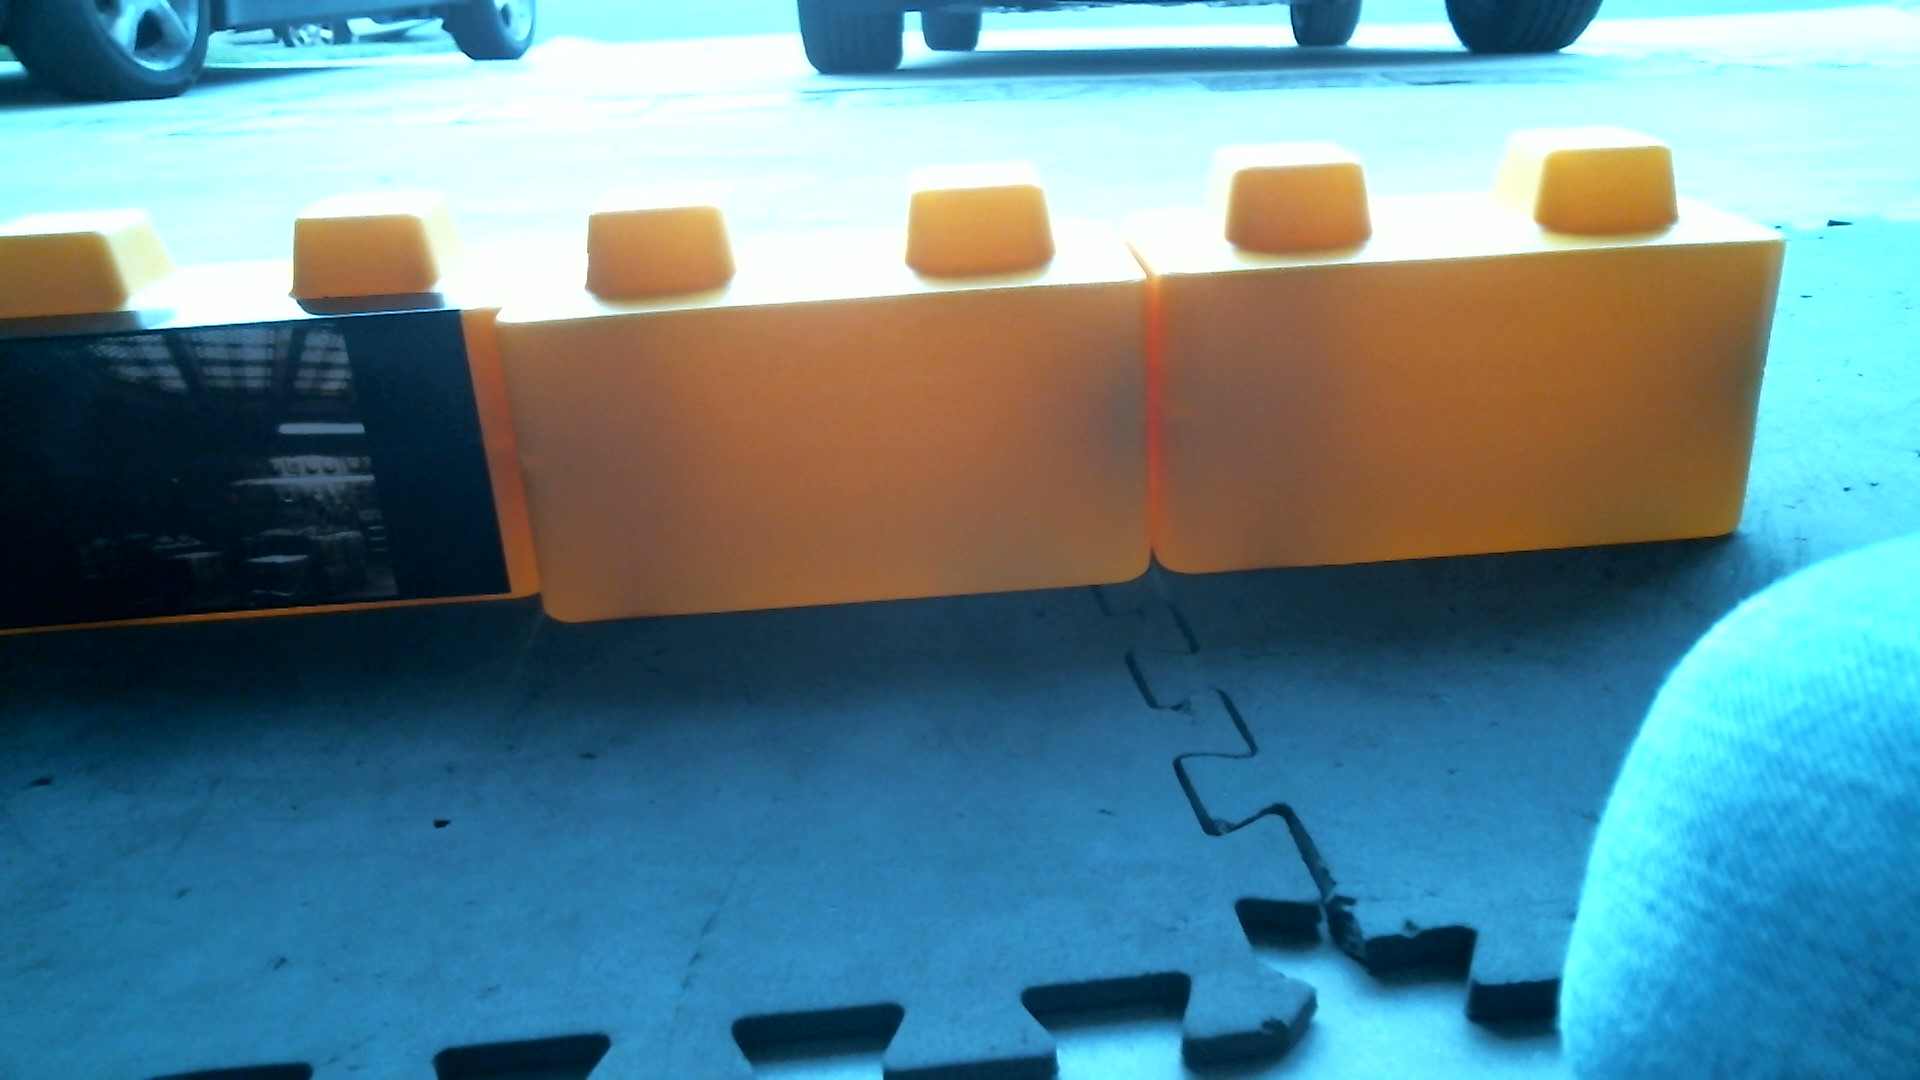left: (9, 105, 1836, 662)
